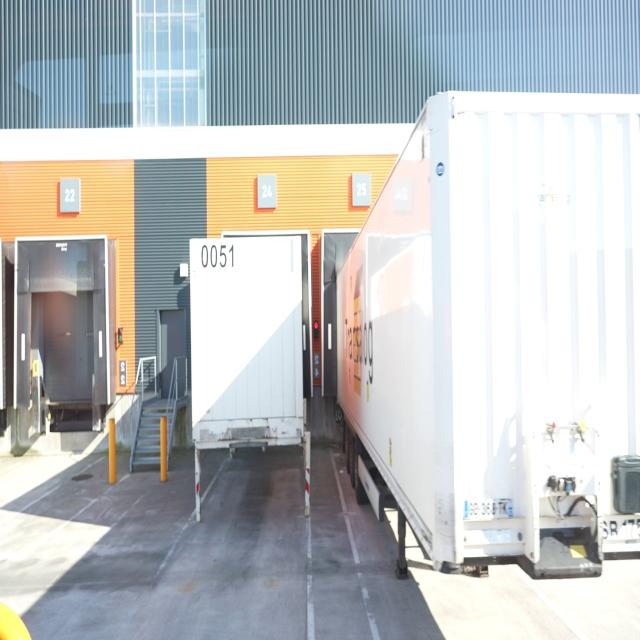Code: (199, 239, 244, 274)
